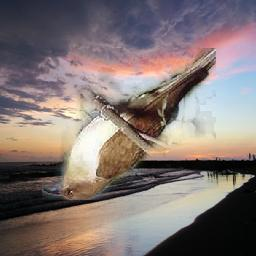Cuckoo: (42, 48, 216, 200)
